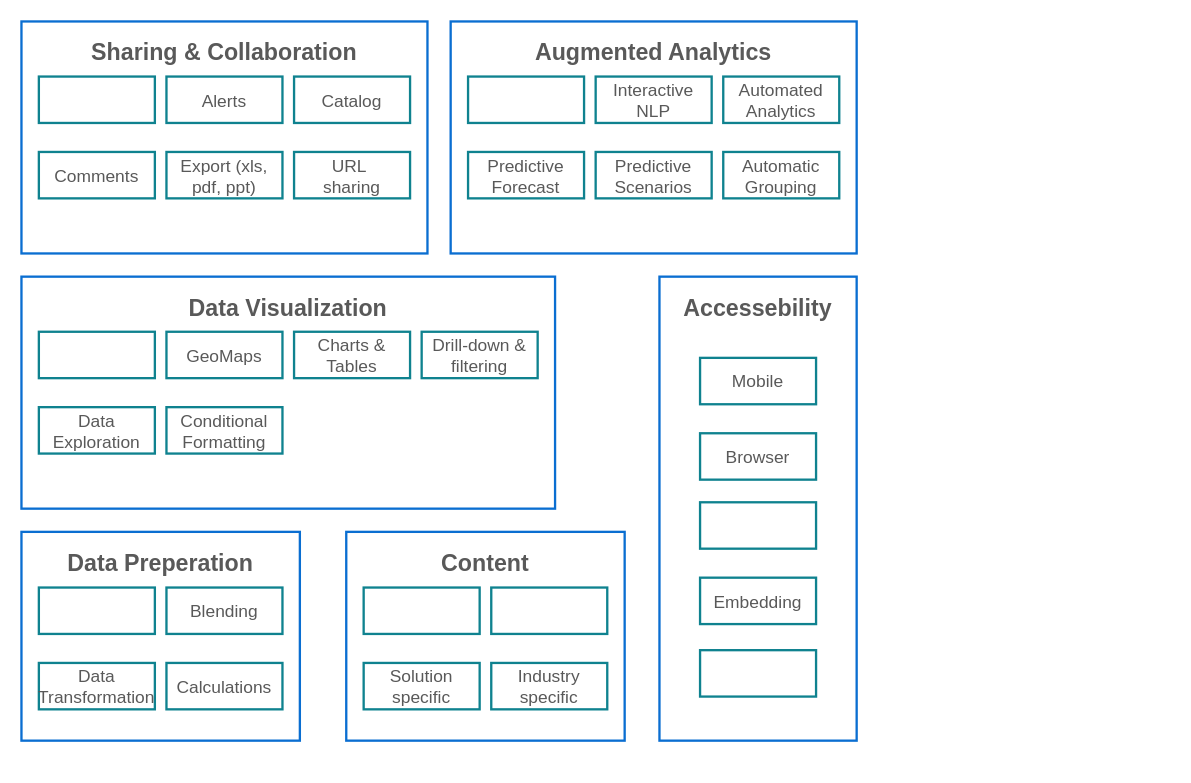
The diagram is 1191 pixels wide and 783 high, and some of its shapes have lost their labels. The centre of each missing label's shape, as x and y in pixels:
"Data Upload" belongs at (96,610).
"Discussions" belongs at (96,99).
"Intelligent Insights" belongs at (525,99).
"LoB specific" belongs at (421,610).
"MS Office" belongs at (757,525).
"Pagination" belongs at (96,354).
"Search" belongs at (757,672).
"Templates" belongs at (549,610).
